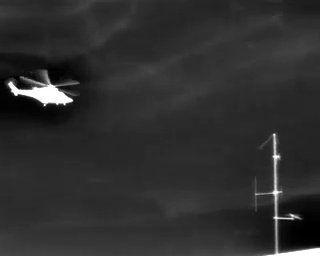HELICOPTER: (6, 64, 84, 115)
